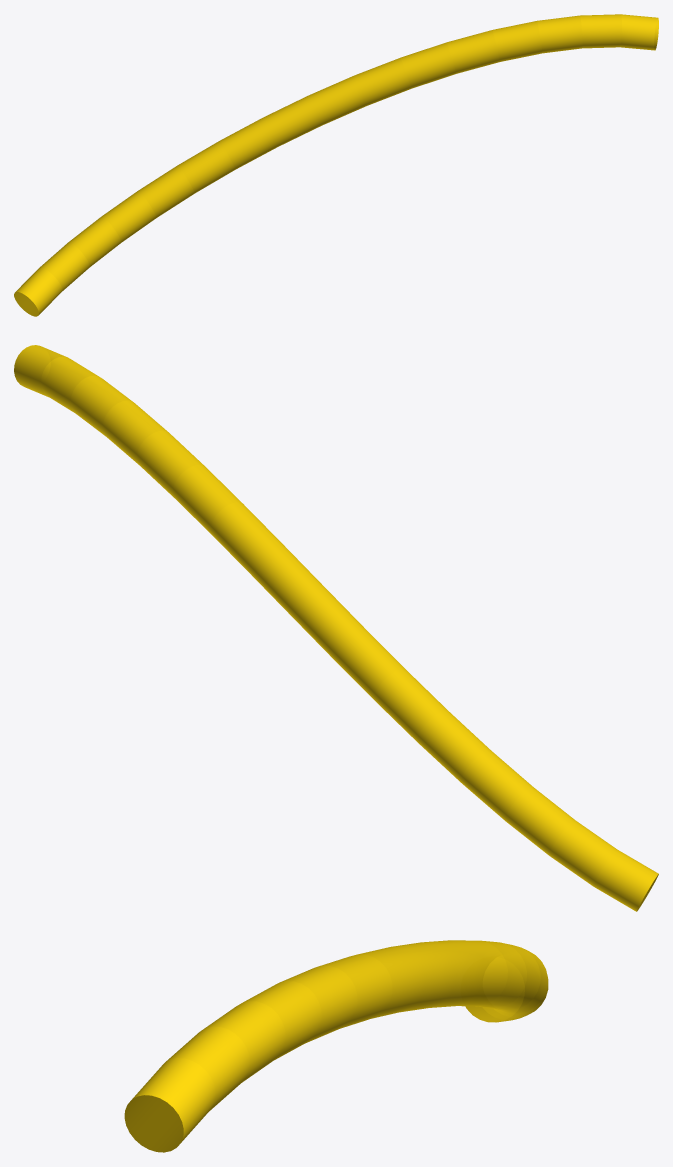
File: Event_420604493_track_15.fbx
3 views of the same model, one above another, from view 1: azimuth 30°, elevation 25°; view 2: azimuth 150°, elevation 25°; view 3: azimuth 270°, elevation 25° (orthographic). The views are drawn at different scales.
Visible parts, largest first — view 1: Model; view 2: Model; view 3: Model.
Boxes of the visible parts, left/top/right/bottom form: Model: left=14, top=14, right=658, bottom=316; Model: left=14, top=345, right=658, bottom=911; Model: left=124, top=940, right=548, bottom=1152.
Size of the model in its own units: 0.7806 by 0.3095 by 0.2563.
